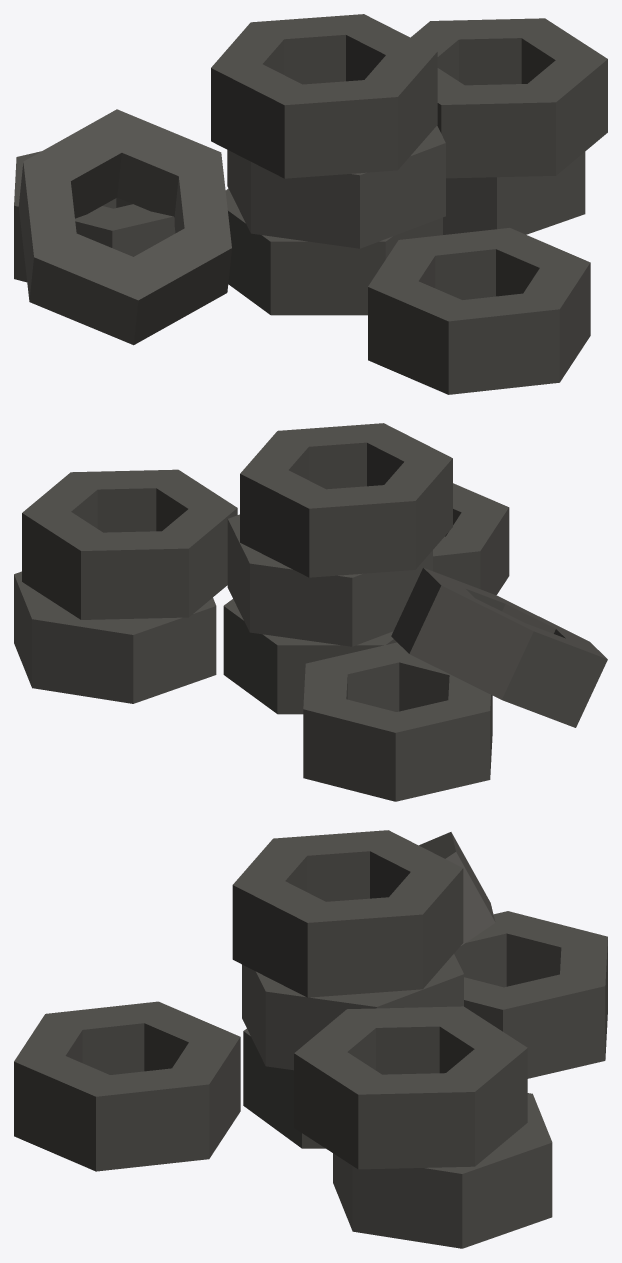
Rendered from SM_Screw-Nut.gltf.
3 renders of one model, top to bottom at view 1: azimuth 30°, elevation 25°; view 2: azimuth 150°, elevation 25°; view 3: azimuth 270°, elevation 25°, orthographic. The views are drawn at different scales.
Visible parts, largest first — view 1: SM_Screw-Nut; view 2: SM_Screw-Nut; view 3: SM_Screw-Nut.
Boxes of the visible parts, x1,y1,x2,y2 form: SM_Screw-Nut: [14, 14, 607, 394]; SM_Screw-Nut: [14, 423, 607, 801]; SM_Screw-Nut: [14, 830, 607, 1248].
Bounding box in the file's own units: 0.1175 × 0.0429 × 0.102.
1 material, 1 textured.
